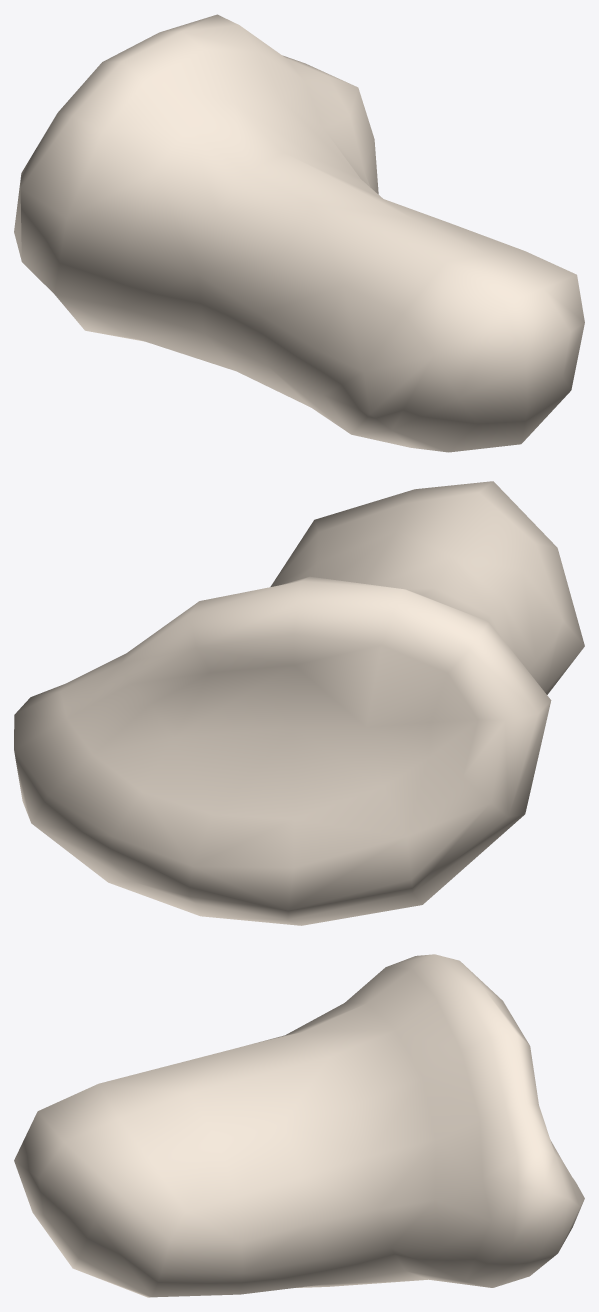
File: left_toe_3_distal.glb
3 renders of one model, top to bottom at view 1: azimuth 30°, elevation 25°; view 2: azimuth 150°, elevation 25°; view 3: azimuth 270°, elevation 25°, orthographic. The views are drawn at different scales.
Visible parts, largest first — view 1: Distal phalanx of third finger of foot.r; view 2: Distal phalanx of third finger of foot.r; view 3: Distal phalanx of third finger of foot.r.
Part boxes in pixels (left/top/right/bottom): Distal phalanx of third finger of foot.r: left=14, top=14, right=584, bottom=452; Distal phalanx of third finger of foot.r: left=14, top=481, right=584, bottom=925; Distal phalanx of third finger of foot.r: left=14, top=954, right=584, bottom=1297.
Size of the model in its own units: 0.00831 by 0.00601 by 0.0119.
